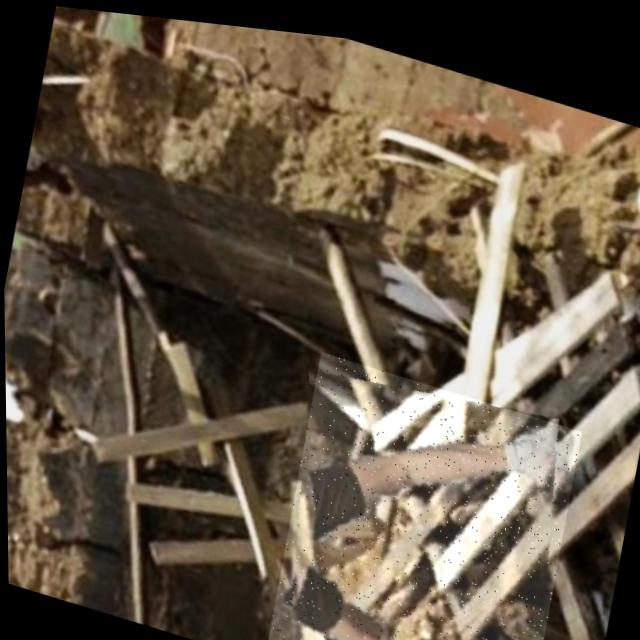Person in Rubble: (259, 338, 584, 640)
